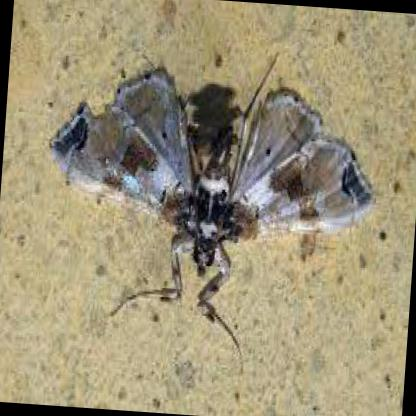leucinodes: (46, 71, 374, 319)
